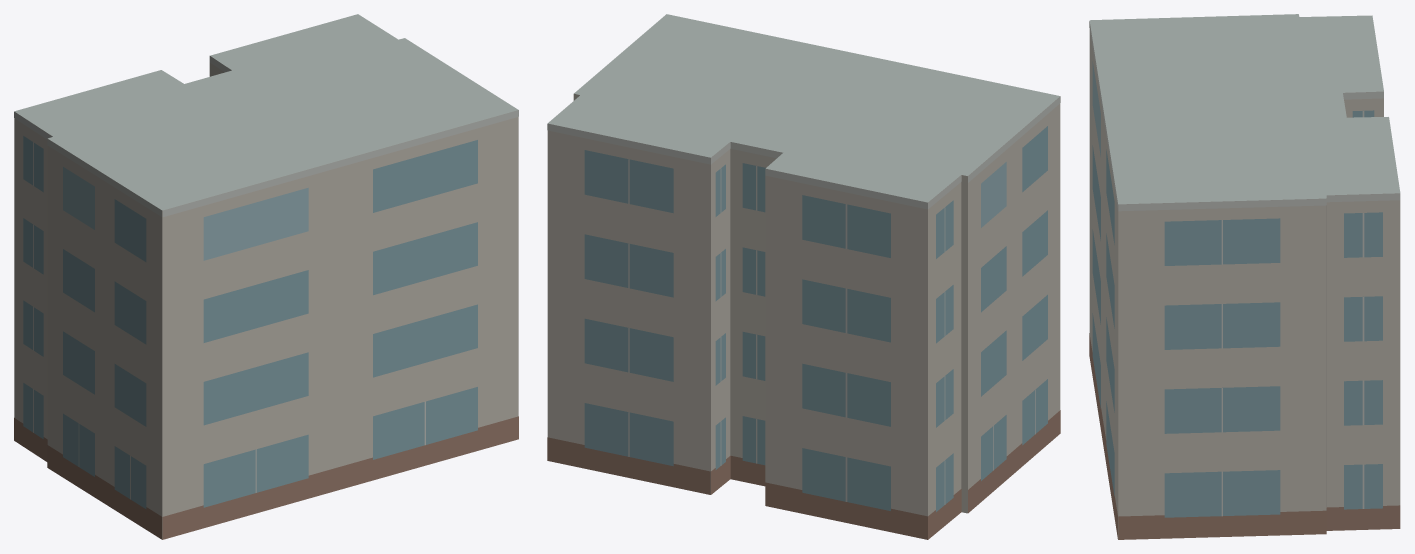
The model's file is survey-upis-32699048.glb.
3 views of the same model, side by side, from view 1: azimuth 30°, elevation 25°; view 2: azimuth 150°, elevation 25°; view 3: azimuth 270°, elevation 25° (orthographic). The views are drawn at different scales.
Parts seen in each view (by area): view 1: survey-upis-32699048.tmp; view 2: survey-upis-32699048.tmp; view 3: survey-upis-32699048.tmp.
Part boxes in pixels (x1=…): survey-upis-32699048.tmp: x1=14, y1=14, x2=518, y2=539; survey-upis-32699048.tmp: x1=547, y1=14, x2=1060, y2=539; survey-upis-32699048.tmp: x1=1089, y1=14, x2=1400, y2=539.
Bounding box in the file's own units: 14.45 × 11.87 × 9.98.
